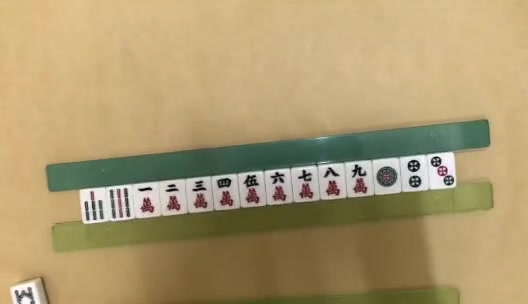1m: (138, 186, 157, 214)
1p: (377, 167, 397, 187)
2m: (166, 183, 183, 212)
2p: (407, 158, 422, 186)
3m: (191, 181, 209, 212)
3p: (432, 156, 454, 185)
4m: (218, 178, 235, 207)
5m: (244, 175, 259, 204)
6m: (267, 172, 289, 203)
7m: (299, 169, 313, 199)
7s: (80, 191, 105, 222)
8m: (325, 167, 341, 196)
9m: (351, 164, 367, 193)
9s: (108, 188, 132, 219)
